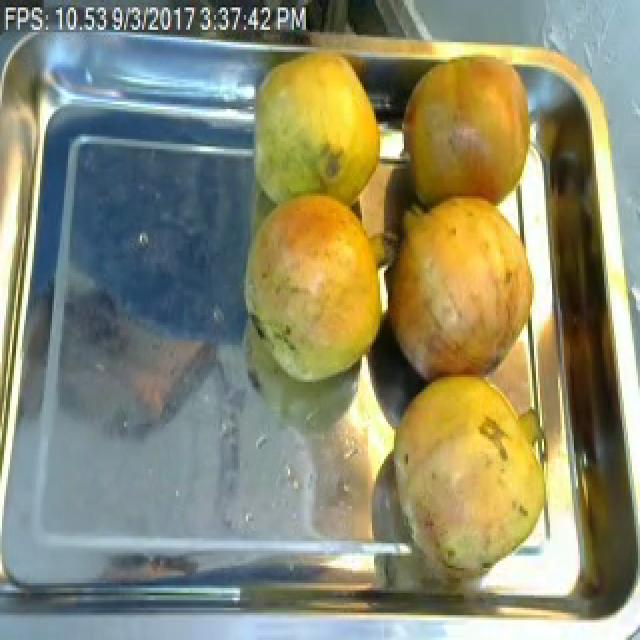fruit: (384, 362, 560, 593), (230, 176, 402, 400), (378, 184, 542, 392), (394, 42, 546, 211), (244, 42, 390, 214)
